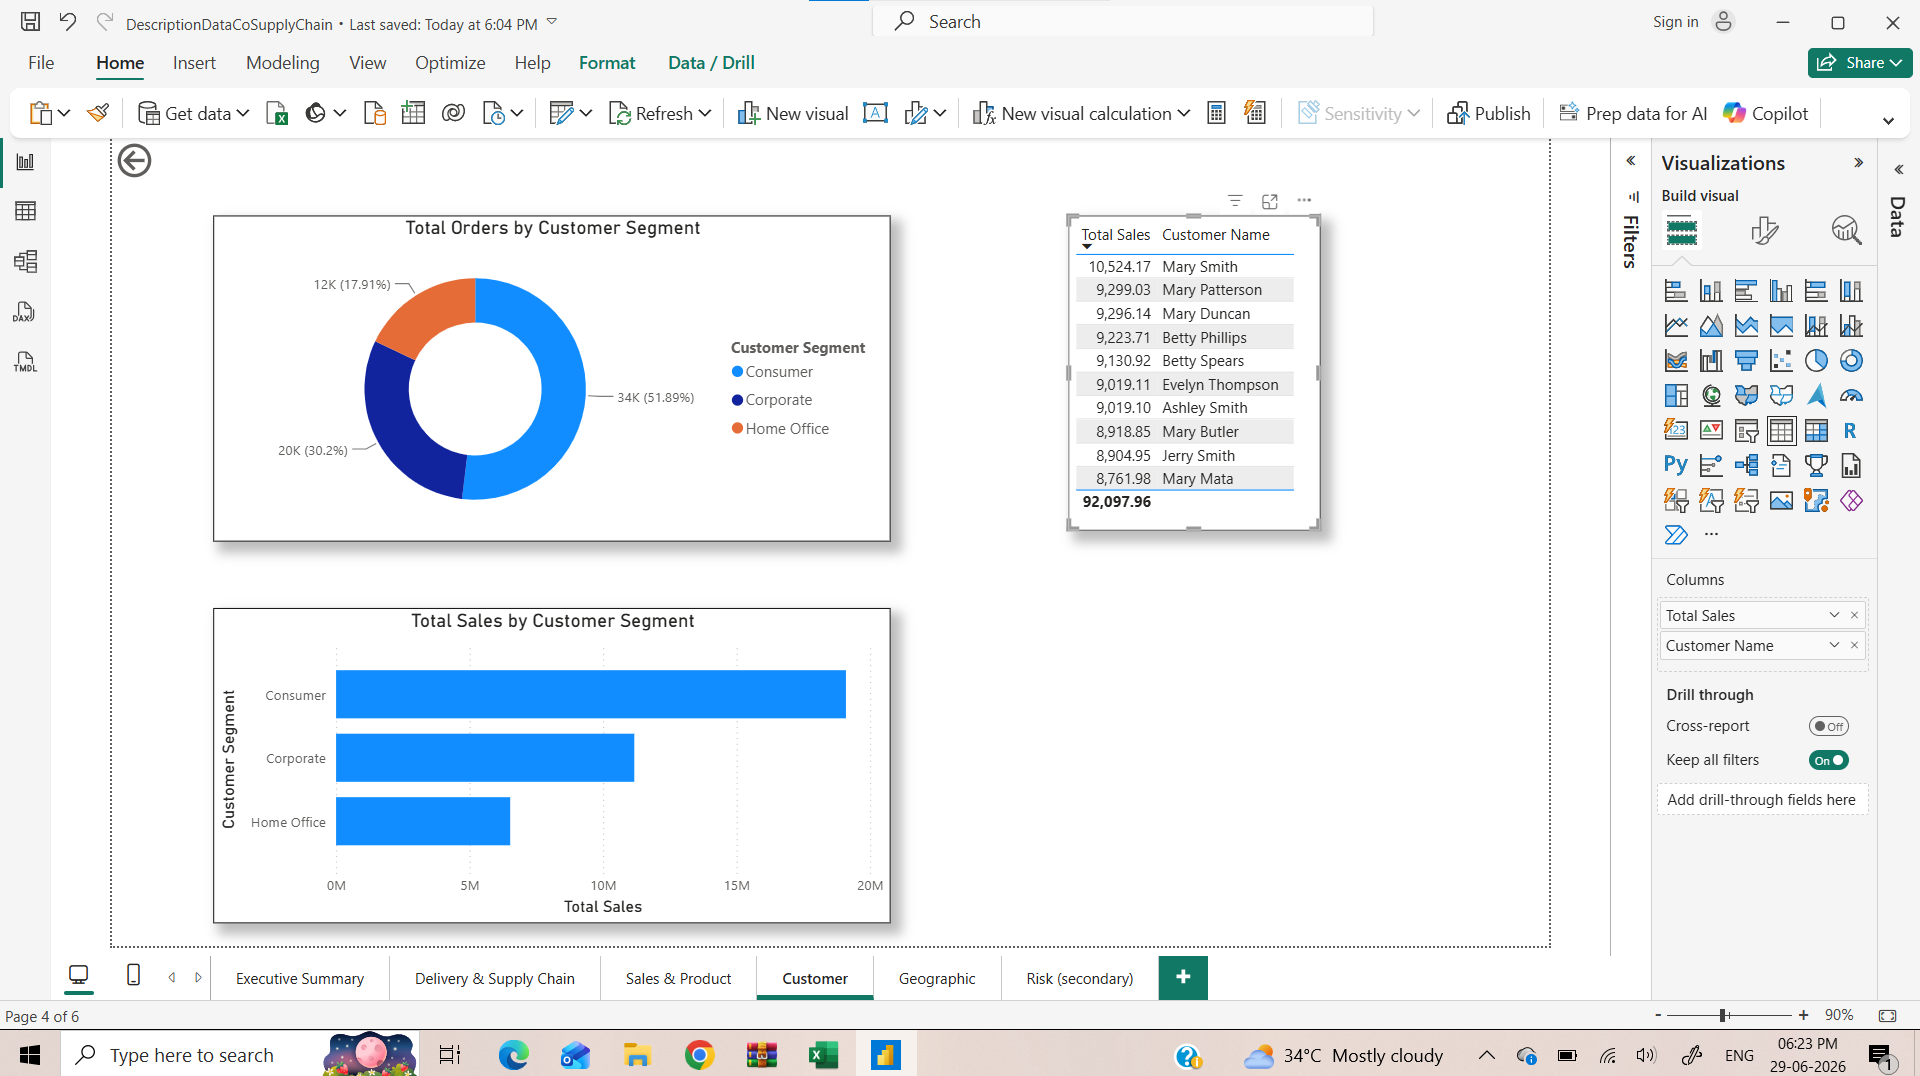

What the dashboard file says about the page in this screenshot:
{"tool":"powerbi","page":{"name":"Customer","canvas":[1280,720],"ordinal":3},"visuals":[{"type":"donutChart","fields":{"Y":["_Measures.Total Orders"],"Category":["Dim_Customer.Customer Segment"]},"box":[61.7,60.5,392.7,280],"z":0},{"type":"clusteredBarChart","fields":{"Category":["Dim_Customer.Customer Segment"],"Y":["_Measures.Total Sales"]},"box":[545.8,60.5,409.3,280],"z":1000},{"type":"tableEx","fields":{"Values":["_Measures.Total Sales","Dim_Customer.Customer Name"]},"box":[1042.9,60.5,225.4,280],"z":2000},{"type":"actionButton","box":[0,0,100,40],"z":3000}]}

Visuals, with their boxes on the page's 1280x720 design canvas (x1, y1, x2, y2). These are canvas units, not pixel positions in the 1920x1076 screenshot, which may show the page scaled, cropped or inside an application window:
donutChart - _Measures.Total Orders x Dim_Customer.Customer Segment: <region>62, 60, 454, 340</region>
clusteredBarChart - Dim_Customer.Customer Segment x _Measures.Total Sales: <region>546, 60, 955, 340</region>
tableEx - _Measures.Total Sales x Dim_Customer.Customer Name: <region>1043, 60, 1268, 340</region>
actionButton: <region>0, 0, 100, 40</region>
